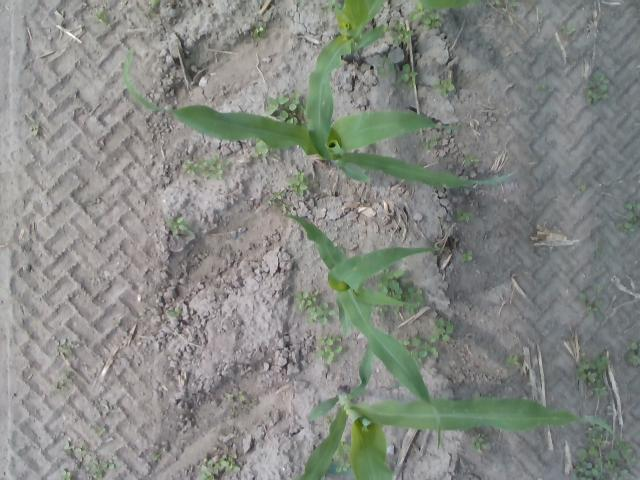Maize: (122, 46, 517, 188), (299, 346, 631, 480), (283, 214, 442, 450), (306, 0, 468, 161)
Weeds: (182, 154, 228, 180), (586, 71, 609, 104), (286, 170, 314, 197), (428, 316, 454, 344), (573, 458, 606, 480), (594, 230, 614, 262), (377, 268, 403, 290), (391, 23, 413, 46), (166, 216, 193, 234), (317, 345, 342, 364), (78, 440, 98, 463), (267, 96, 290, 115), (397, 63, 418, 82), (317, 302, 335, 324), (200, 460, 220, 479), (435, 78, 455, 96), (54, 338, 72, 357), (411, 337, 427, 358), (423, 12, 441, 30), (294, 290, 312, 308), (624, 200, 640, 220), (594, 355, 611, 372), (409, 2, 425, 20), (628, 343, 640, 367), (222, 455, 240, 471), (404, 288, 424, 302), (456, 209, 475, 223), (576, 446, 598, 458), (86, 465, 105, 478), (608, 468, 628, 480), (472, 434, 487, 450), (577, 359, 596, 371), (586, 429, 602, 443), (268, 190, 284, 204), (252, 22, 266, 38), (280, 110, 298, 122), (252, 142, 267, 156), (336, 458, 350, 472), (422, 137, 438, 149), (617, 223, 635, 233), (308, 302, 317, 322), (290, 93, 300, 110), (580, 372, 596, 382), (504, 354, 520, 364), (316, 336, 332, 346), (605, 450, 620, 460), (578, 294, 590, 306), (594, 378, 602, 396), (96, 12, 108, 24), (427, 346, 438, 358), (466, 155, 479, 165), (102, 401, 113, 412), (535, 80, 547, 90), (55, 380, 67, 390), (462, 250, 472, 261), (238, 391, 248, 402), (64, 371, 75, 381), (30, 125, 40, 136), (593, 283, 603, 293), (587, 307, 597, 317), (61, 470, 71, 480), (65, 449, 74, 460), (310, 290, 318, 302), (562, 26, 574, 33), (604, 461, 616, 468), (104, 460, 114, 468), (149, 0, 159, 8), (64, 442, 74, 450), (388, 61, 394, 74), (377, 66, 386, 74), (600, 387, 608, 396), (282, 206, 291, 214), (332, 336, 342, 343), (380, 56, 390, 62), (168, 310, 178, 316), (578, 184, 586, 191), (596, 300, 604, 307), (155, 454, 162, 462), (408, 82, 414, 90), (228, 394, 234, 402), (98, 428, 104, 435), (76, 446, 82, 450), (118, 319, 121, 325)
